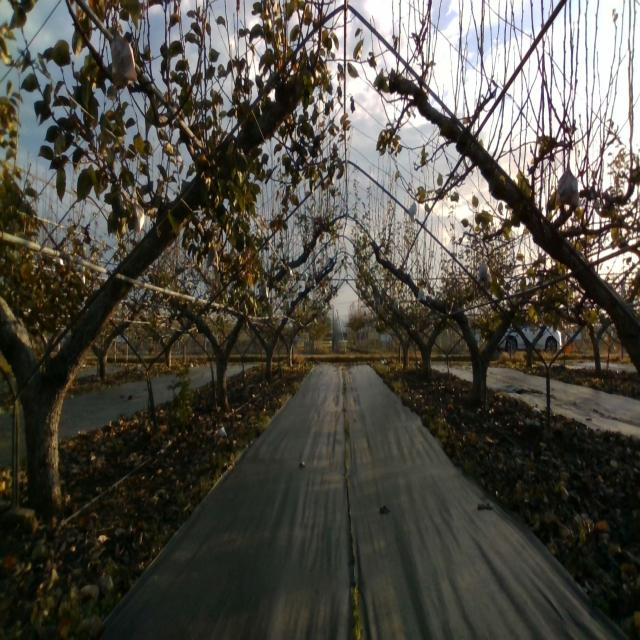pearbags: (109, 23, 138, 88), (557, 159, 580, 208), (130, 198, 145, 235), (478, 260, 492, 284)
